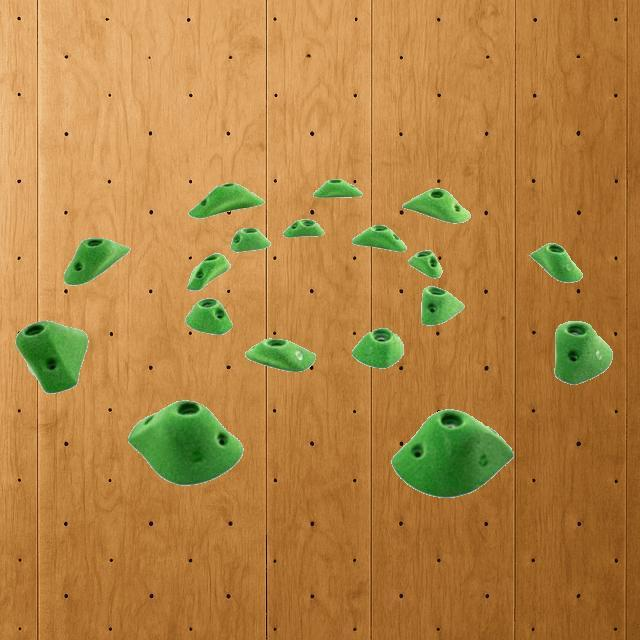Pinch: (391, 408, 514, 497), (126, 398, 242, 486), (17, 322, 88, 392), (554, 322, 612, 384), (61, 236, 130, 284), (189, 184, 263, 218), (402, 188, 470, 222), (246, 338, 314, 372), (352, 328, 404, 368), (530, 244, 582, 282), (420, 285, 466, 325), (185, 298, 233, 334), (352, 222, 408, 252), (188, 253, 232, 290), (229, 226, 271, 252), (312, 178, 362, 198), (408, 250, 442, 278), (282, 218, 324, 238)
